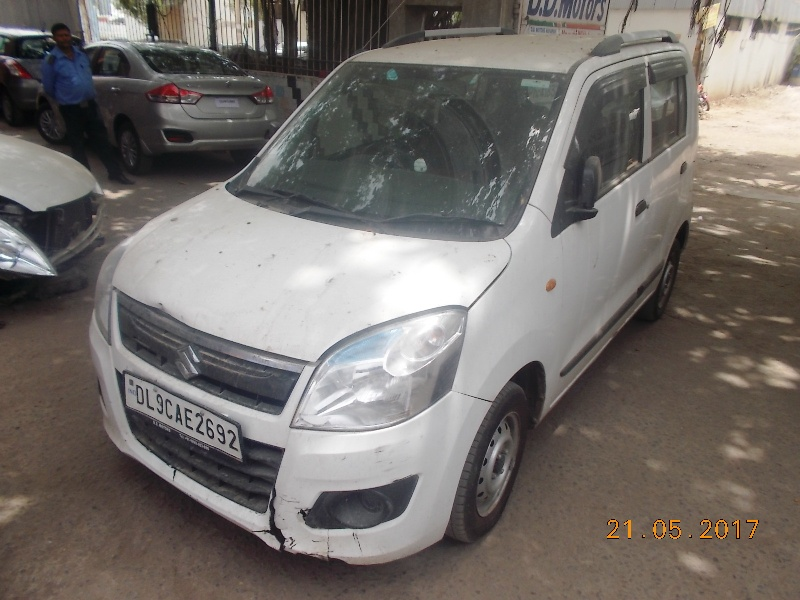Tear: (262, 485, 283, 557)
